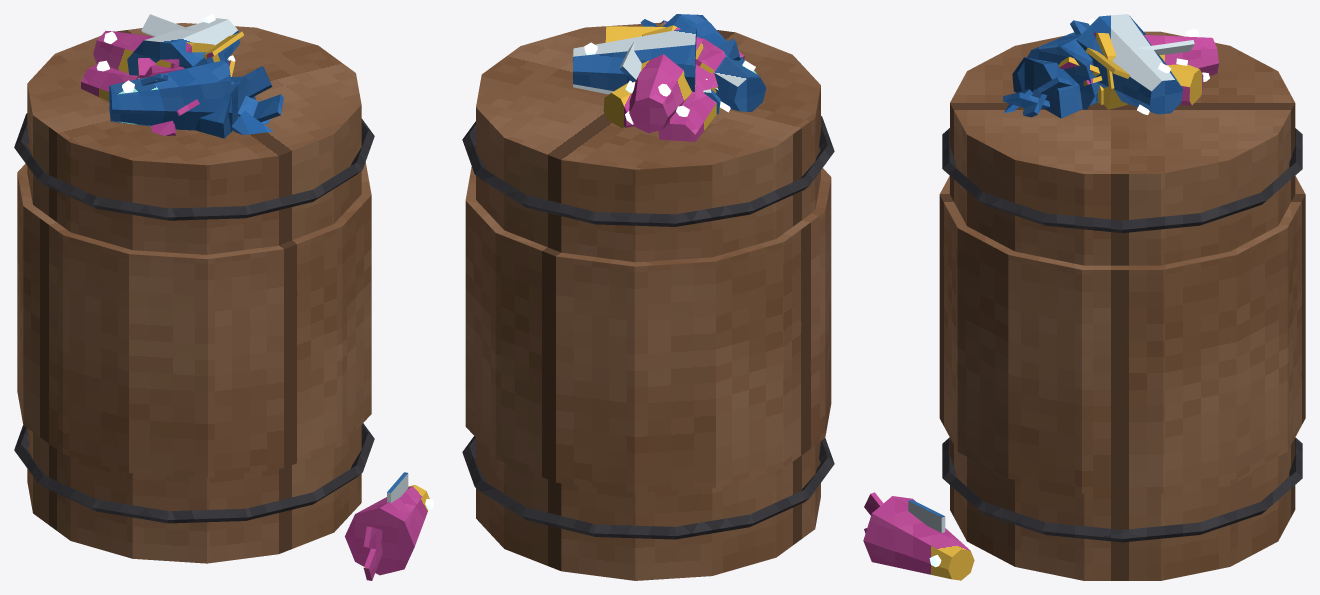
The model's file is fish_barrel.glb.
3 views of the same model, side by side, from view 1: azimuth 30°, elevation 25°; view 2: azimuth 150°, elevation 25°; view 3: azimuth 270°, elevation 25° (orthographic). The views are drawn at different scales.
Parts seen in each view (by area): view 1: body; view 2: body; view 3: body.
Part boxes in pixels (bbox=[...]): body: bbox=[14, 14, 433, 580]; body: bbox=[462, 14, 834, 580]; body: bbox=[863, 14, 1305, 580].
Bounding box in the file's own units: 0.642 × 0.9484 × 0.7684.
6 materials, 4 textured.
